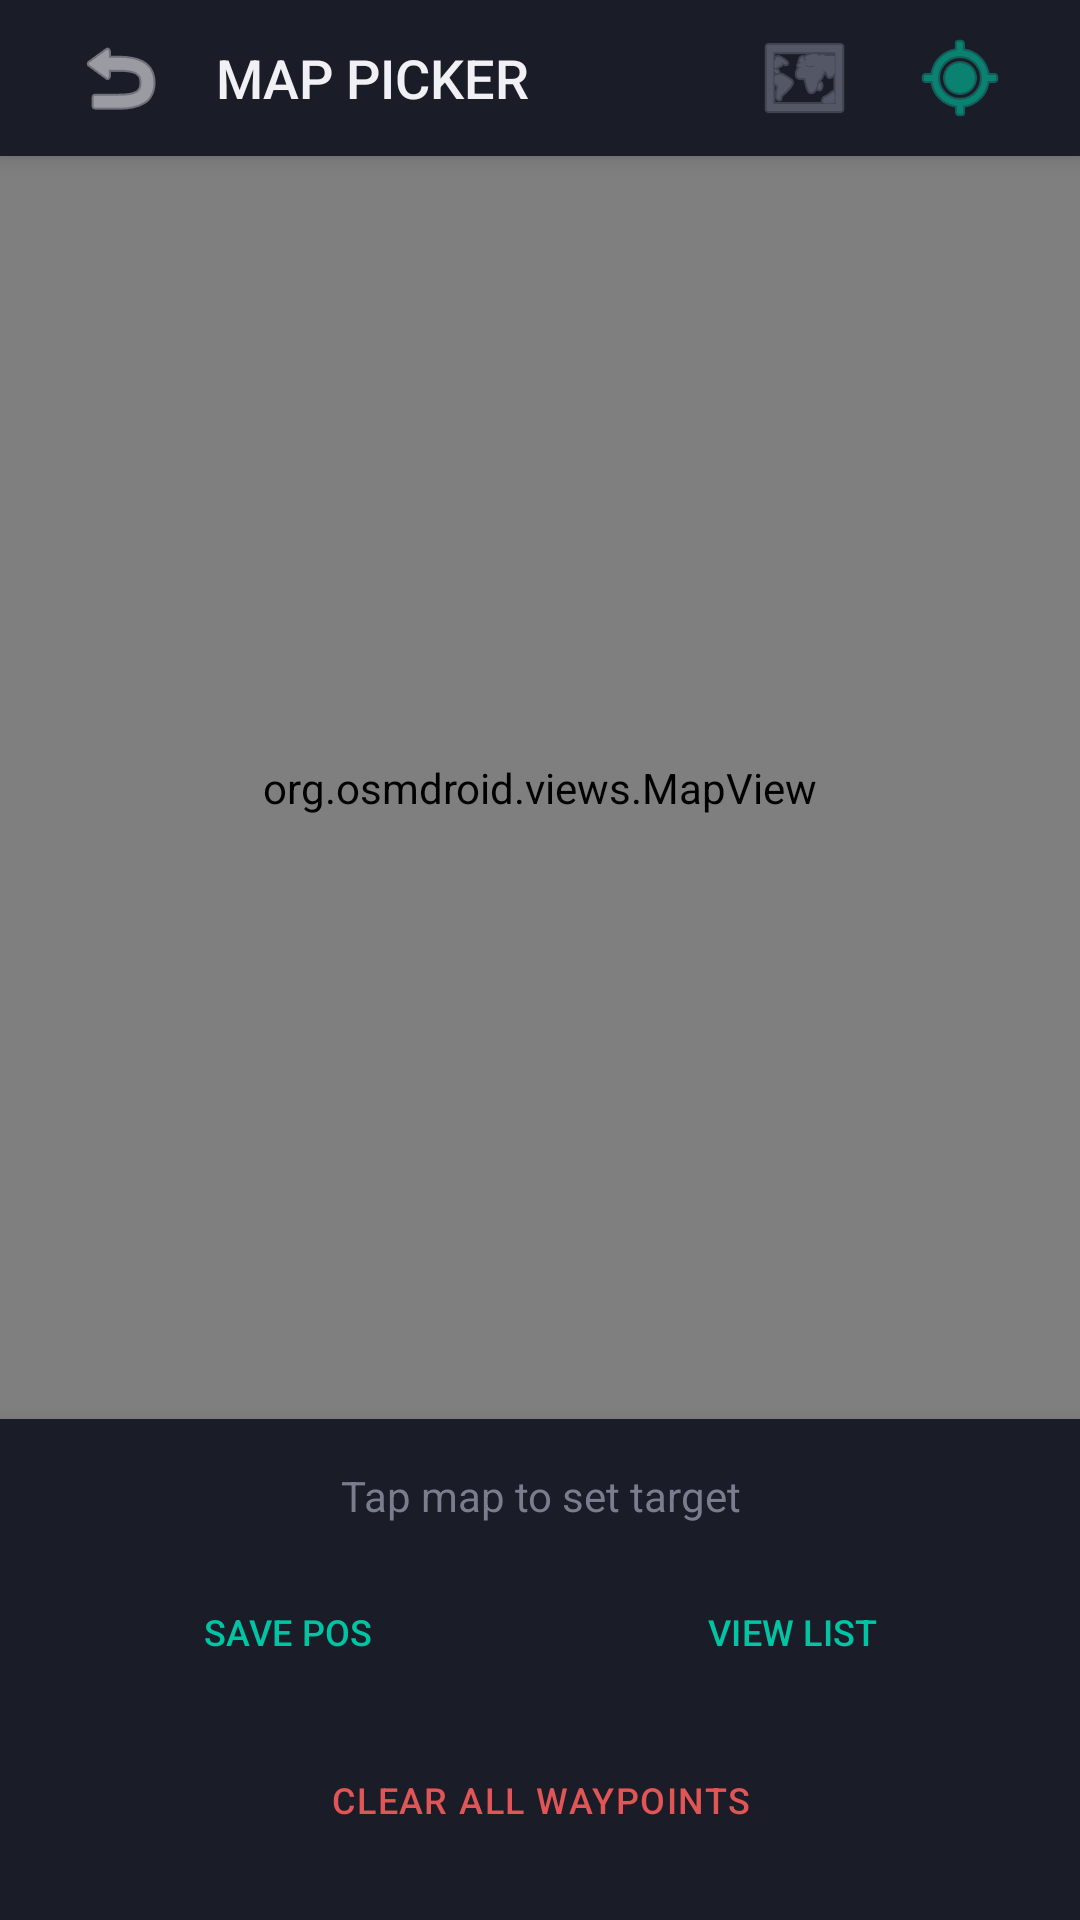

Icons on this 1080 x 1920 Android screen, each with its box as bbox(x1, y1, x2, y2):
mapmode: bbox(765, 43, 844, 113)
mylocation: bbox(922, 40, 998, 116)
revert: bbox(87, 47, 156, 110)
